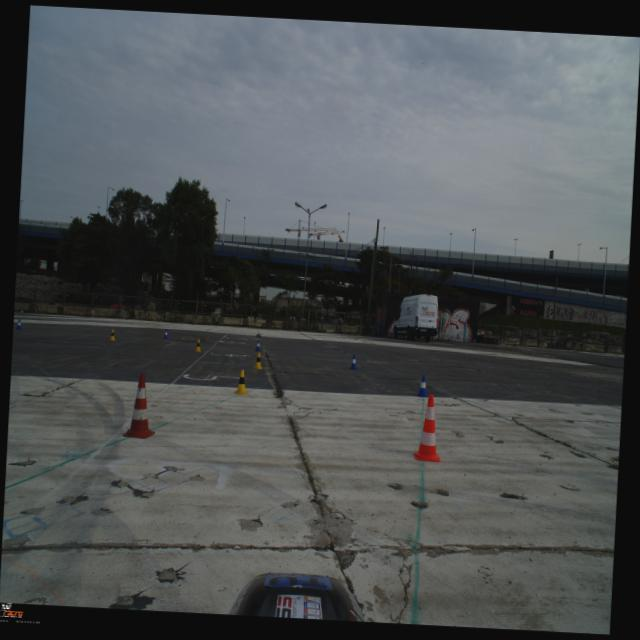blue_cone: (416, 375, 430, 397), (349, 355, 359, 370), (254, 340, 262, 352), (15, 319, 22, 330), (163, 328, 169, 339)
large_orange_cone: (123, 372, 158, 439), (413, 394, 444, 462)
yellow_cone: (233, 369, 250, 395), (253, 352, 264, 370), (194, 338, 202, 352), (108, 328, 116, 341)
